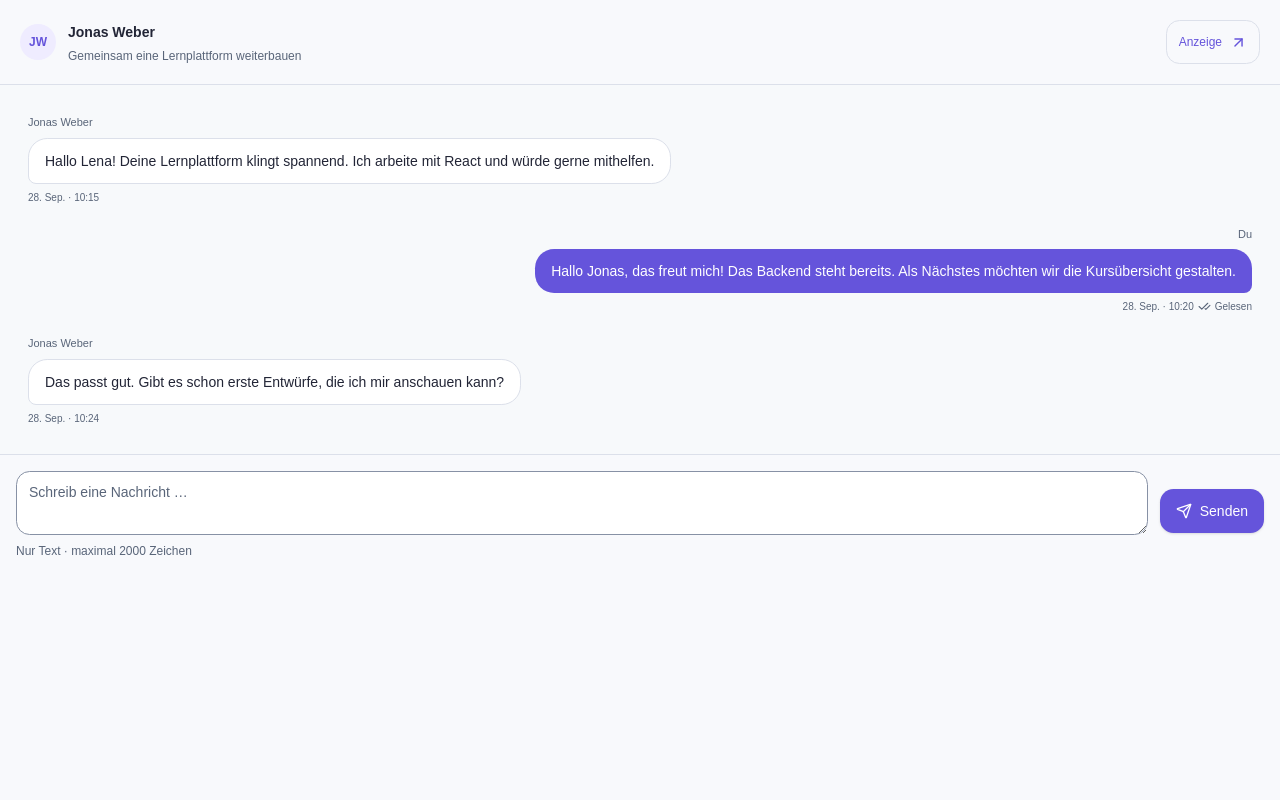
Test: Nachrichten › sendet Text über die API und markiert nur fremde Nachrichten als gelesen
Check: the text "Das passt gut. Gibt es schon erste Entwürfe, die ich mir anschauen kann?" is shown, box [28,359,521,405]
Type "Ja, ich schicke dir gleich die Entwürfe." into the text box labelled "Nachricht". click: (582, 503)
box: [16,471,1148,535]
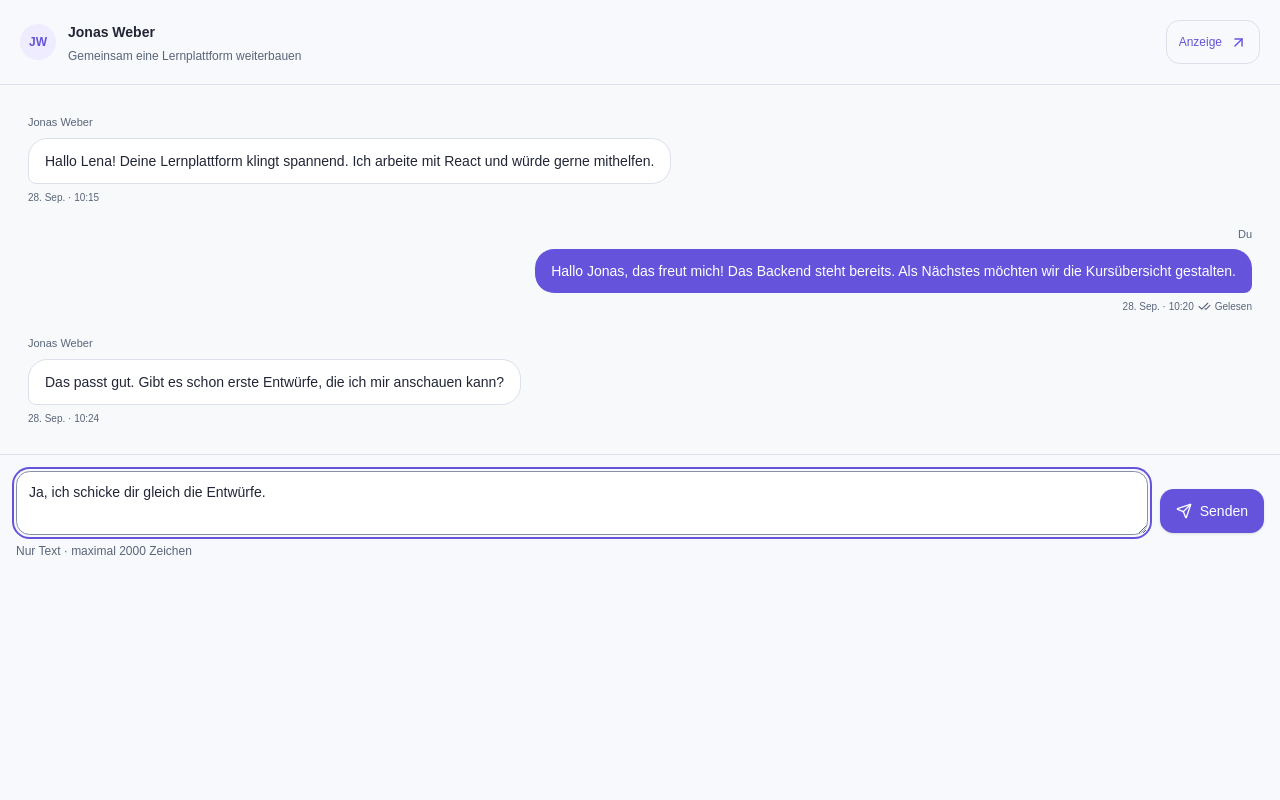
Click the button "Senden". click: (1212, 511)
box: [1160,489,1264,533]
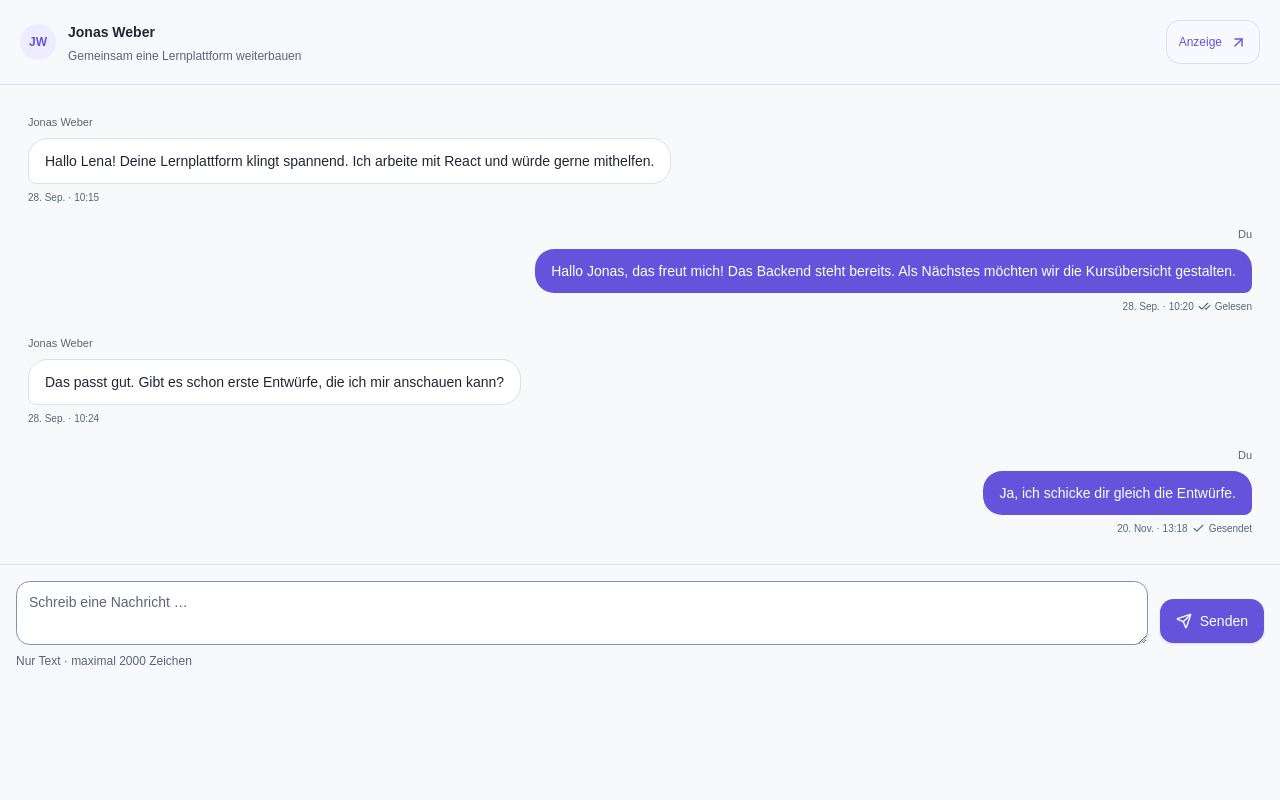
Check: the text "Ja, ich schicke dir gleich die Entwürfe." is shown, box [983,471,1252,515]
Check: the text box labelled "Nachricht" is empty, box [16,581,1148,645]
